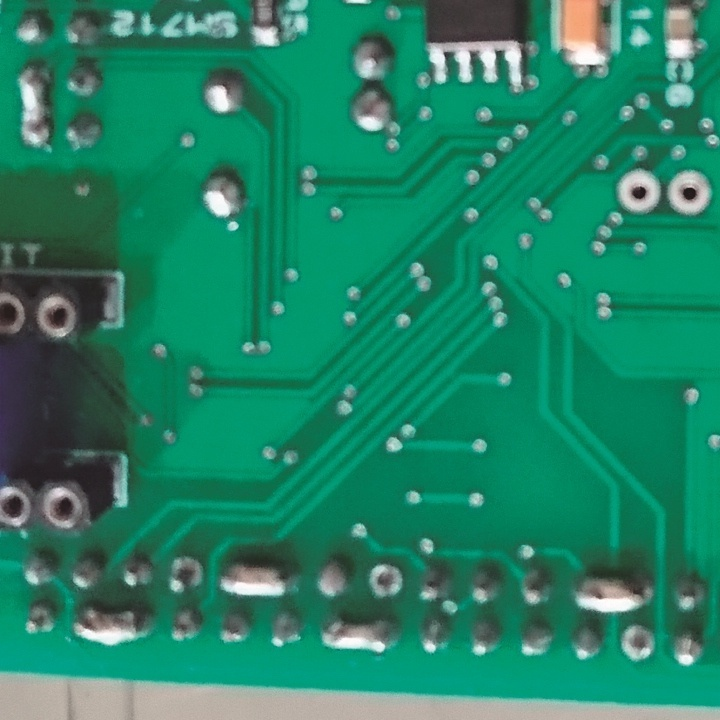F: (664, 169, 714, 216), (618, 169, 658, 214), (167, 552, 205, 595), (620, 623, 656, 663), (366, 561, 402, 598)
P: (67, 601, 153, 648), (573, 571, 653, 612), (18, 63, 55, 150), (320, 617, 396, 658), (216, 559, 296, 597)
